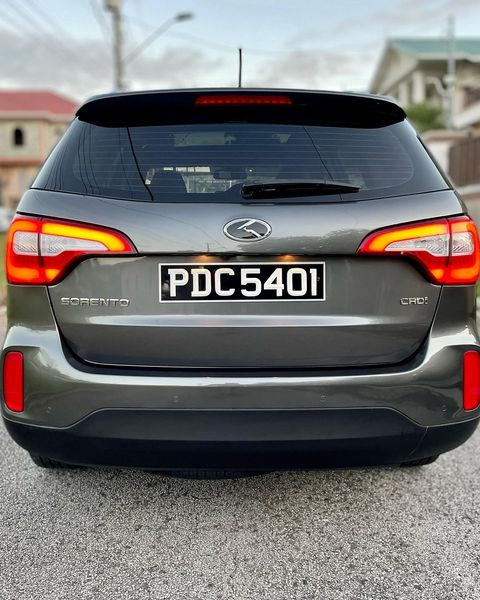License-Plate: (159, 265, 322, 300)
